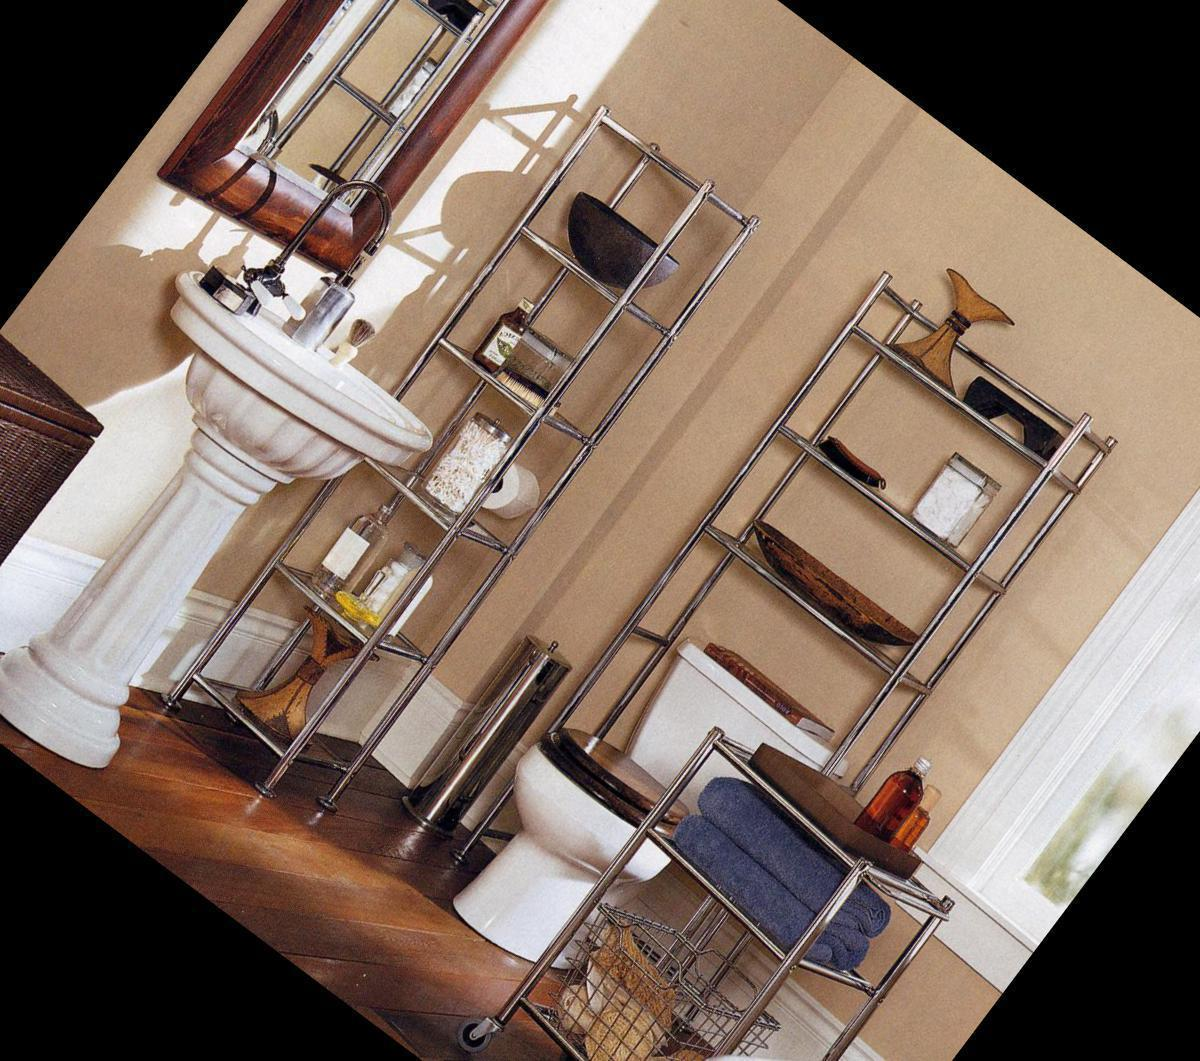Lavamanos: (84, 97, 568, 575)
Sanitario: (415, 583, 812, 1019)
